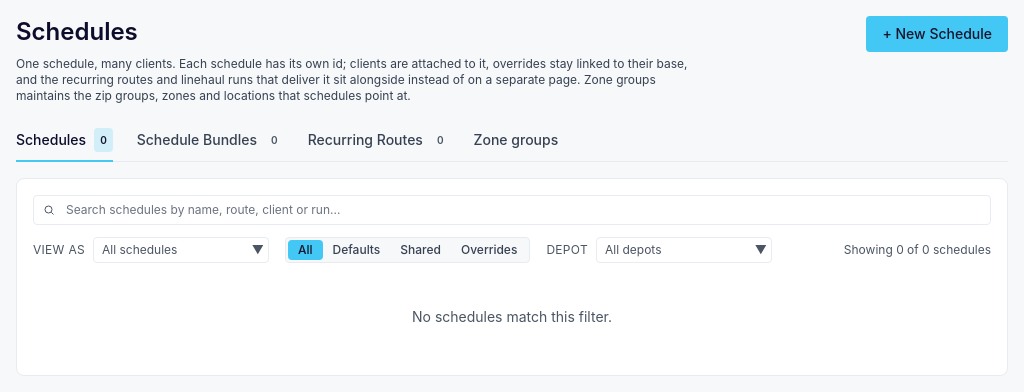
Test: Schedules NEW - Zone groups tab › labels the sub-views for a US tenant
The width and height of the screenshot is (1024, 392).
(page scrolled)
Click the button "Zone groups".
click(516, 141)  # box left=474, top=120, right=558, bottom=162
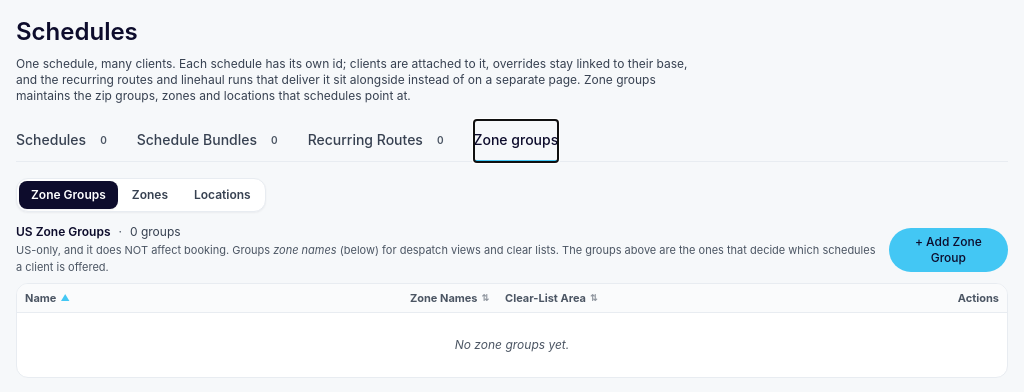
Check: the button "Locations" is shown, box left=182, top=181, right=263, bottom=209
Check: the button "Zone Groups" is shown, box left=19, top=181, right=118, bottom=209
